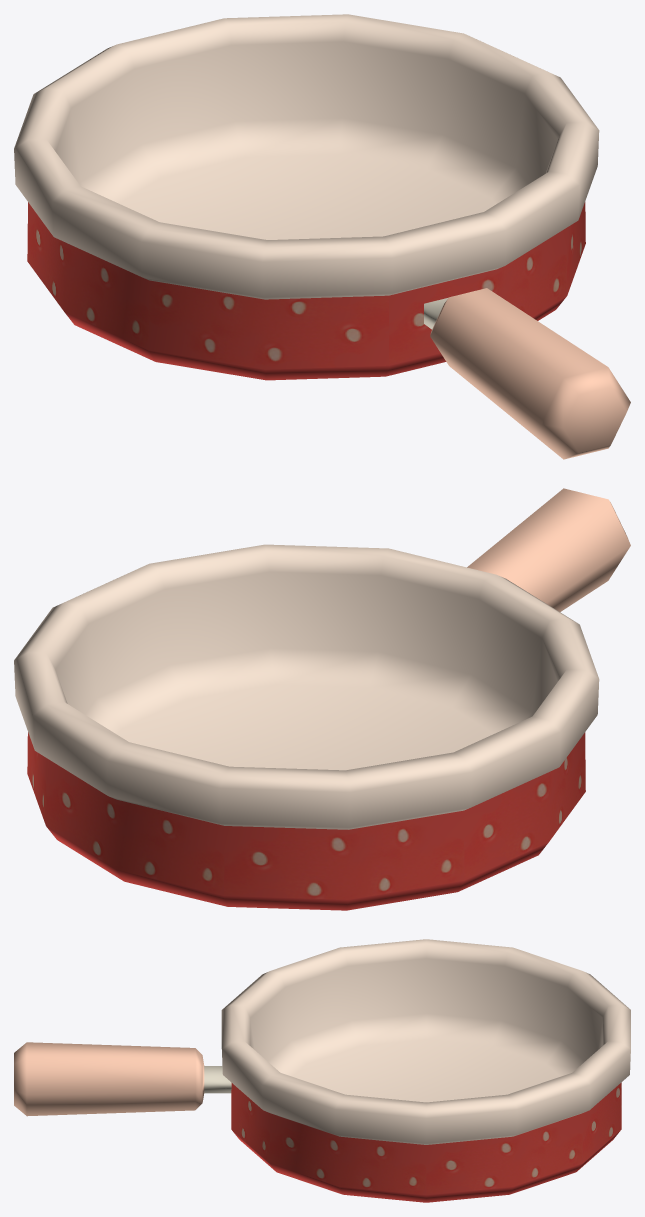
Rendered from Homestead_cm_14.fbx.
The picture shows the model from 3 angles, top to bottom: view 1: azimuth 30°, elevation 25°; view 2: azimuth 150°, elevation 25°; view 3: azimuth 270°, elevation 25°; orthographic projection. The views are drawn at different scales.
Parts seen in each view (by area): view 1: Homestead_cm_14; view 2: Homestead_cm_14; view 3: Homestead_cm_14.
Boxes of the visible parts, <box> form: Homestead_cm_14: <box>14,14,630,459</box>; Homestead_cm_14: <box>14,488,630,910</box>; Homestead_cm_14: <box>14,939,630,1202</box>.
Size of the model in its own units: 59.56 by 16.09 by 87.56.
